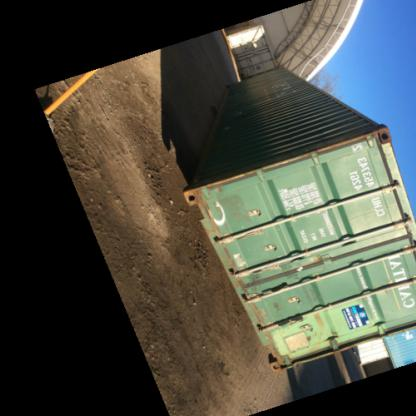Damage: (222, 191, 250, 232), (240, 270, 260, 302), (266, 296, 290, 322), (263, 258, 278, 276)
